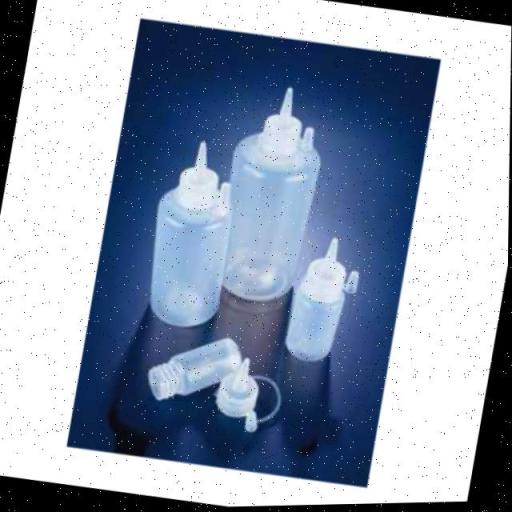plastic: (211, 80, 333, 308), (138, 134, 246, 332), (283, 234, 365, 371), (145, 328, 243, 412)
